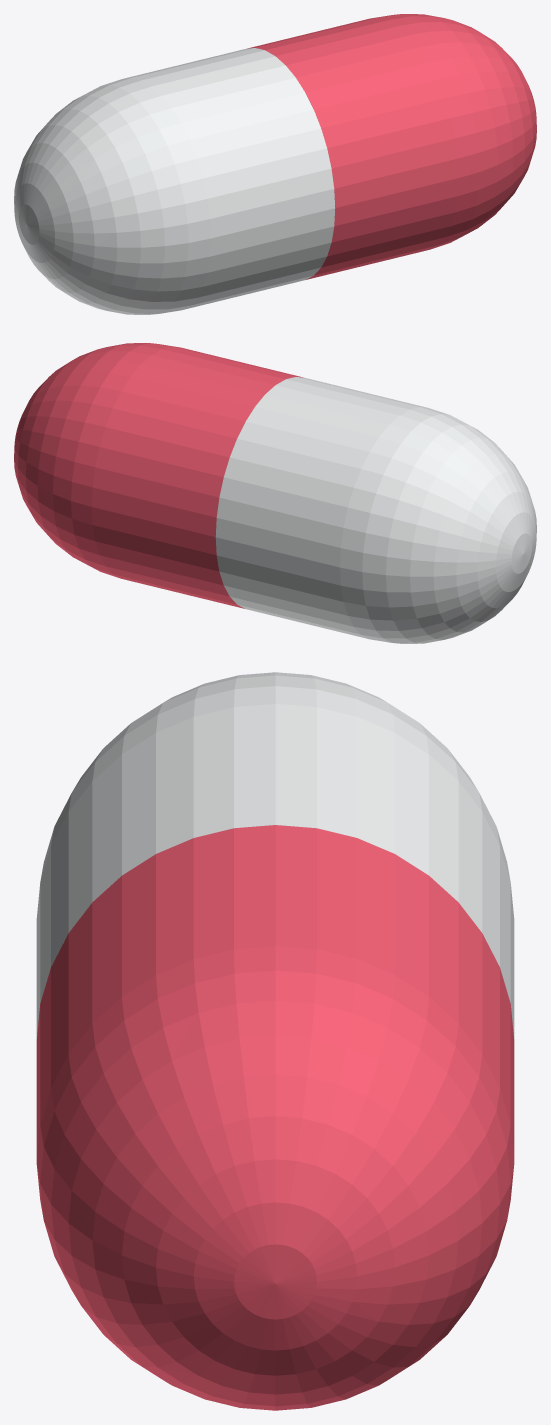
File: unknown-medicine.fbx
3 renders of one model, top to bottom at view 1: azimuth 30°, elevation 25°; view 2: azimuth 150°, elevation 25°; view 3: azimuth 270°, elevation 25°, orthographic. The views are drawn at different scales.
Parts seen in each view (by area): view 1: imagetostl_mesh0; view 2: imagetostl_mesh0; view 3: imagetostl_mesh0.
Part boxes in pixels (x1,y1,x2,y2): imagetostl_mesh0: [14, 14, 536, 314]; imagetostl_mesh0: [14, 343, 536, 643]; imagetostl_mesh0: [36, 672, 514, 1410].
Bounding box in the file's own units: 3600 × 1500 × 1500.
